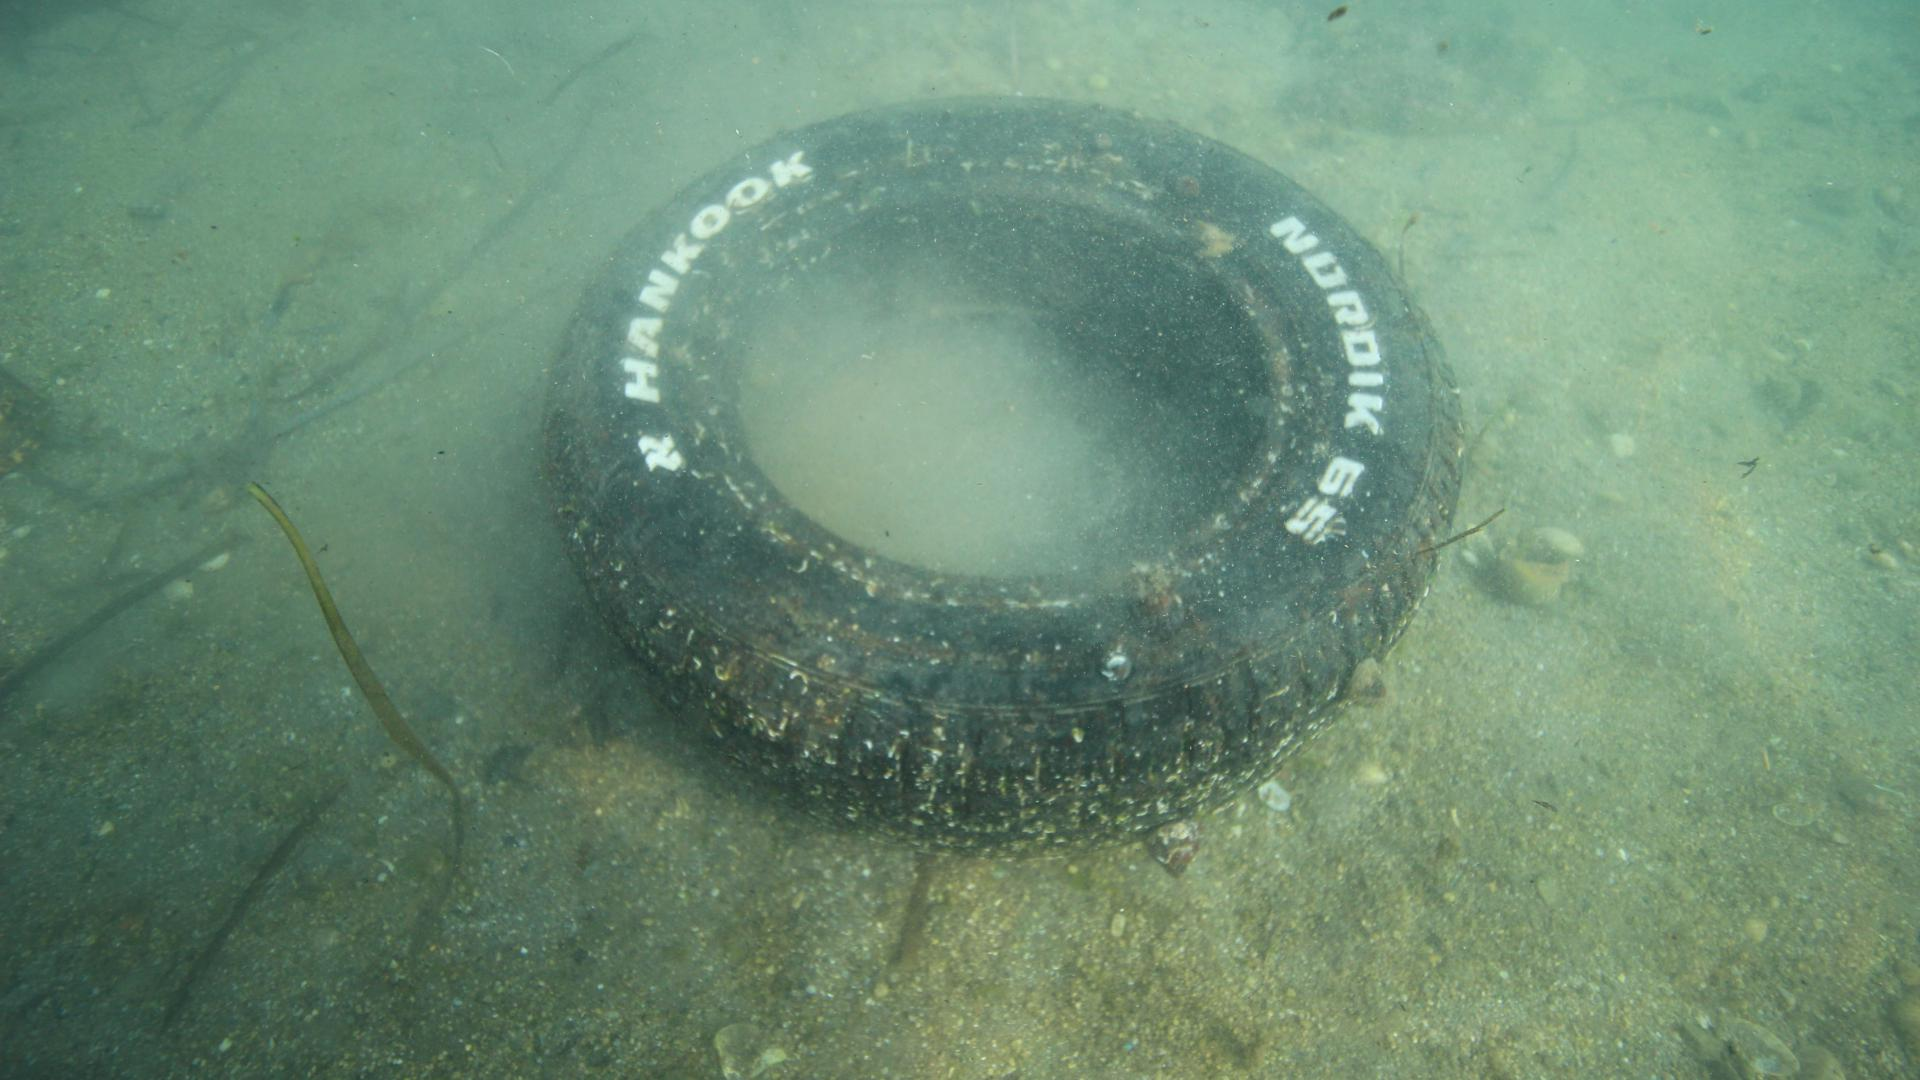tire: (549, 82, 1452, 856)
